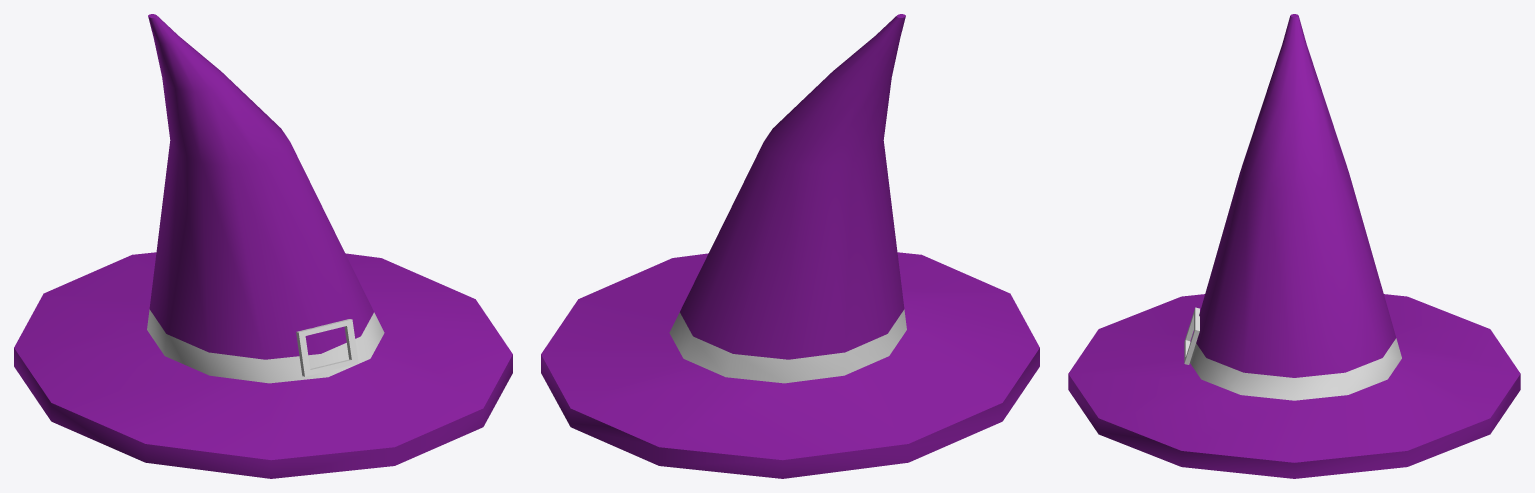
Rendered from sombrerobruja7.fbx.
The picture shows the model from 3 angles, left to right: view 1: azimuth 30°, elevation 25°; view 2: azimuth 150°, elevation 25°; view 3: azimuth 270°, elevation 25°; orthographic projection. The views are drawn at different scales.
Parts seen in each view (by area): view 1: sombrero; view 2: sombrero; view 3: sombrero.
Boxes of the visible parts, x1,y1,x2,y2 form: sombrero: (14,14,512,478); sombrero: (541,14,1039,478); sombrero: (1068,14,1520,478).
Bounding box in the file's own units: 295 × 253 × 317.
